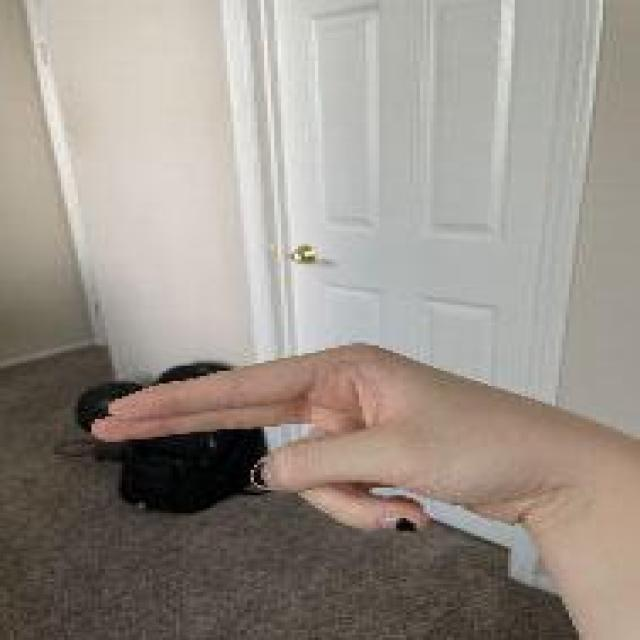H: (88, 334, 593, 550)
